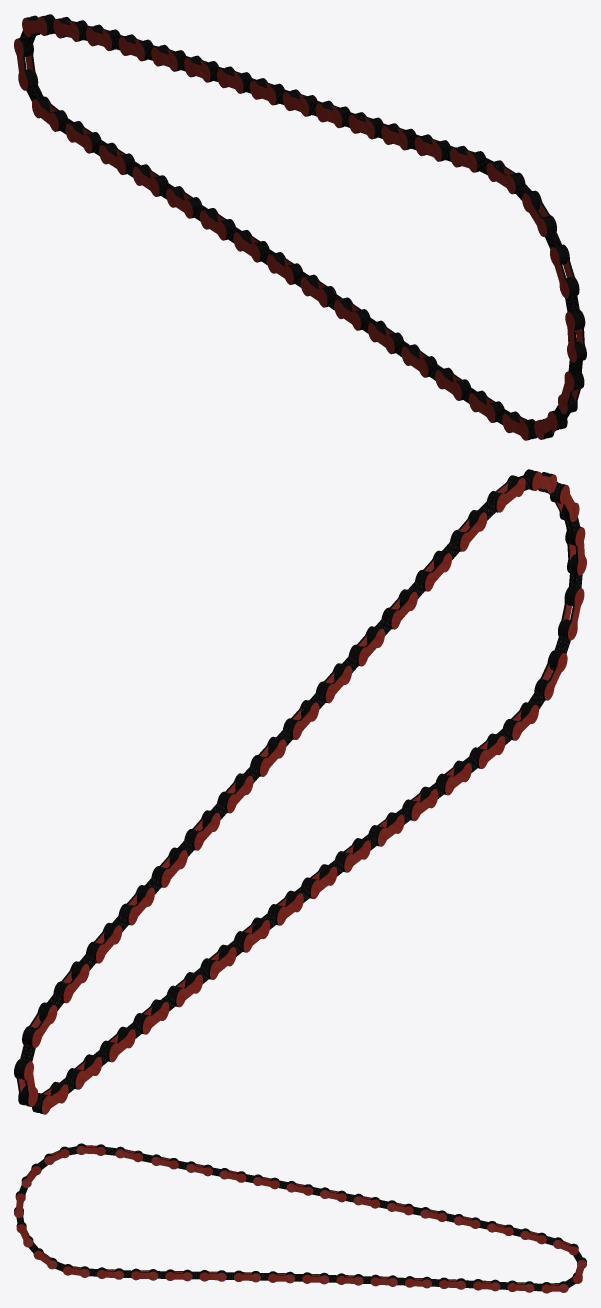
The model's file is Chain.fbx.
The picture shows the model from 3 angles, top to bottom: view 1: azimuth 30°, elevation 25°; view 2: azimuth 150°, elevation 25°; view 3: azimuth 270°, elevation 25°; orthographic projection. The views are drawn at different scales.
Parts seen in each view (by area): view 1: chaindet2_low.021_Cylinder.312; view 2: chaindet2_low.021_Cylinder.312; view 3: chaindet2_low.021_Cylinder.312.
Part boxes in pixels (x1=…): chaindet2_low.021_Cylinder.312: x1=14, y1=14, x2=586, y2=440; chaindet2_low.021_Cylinder.312: x1=14, y1=469, x2=586, y2=1114; chaindet2_low.021_Cylinder.312: x1=14, y1=1143, x2=586, y2=1293.
Size of the model in its own units: 1.45 by 39.73 by 140.
Materials: 1 (1 with a texture image).
